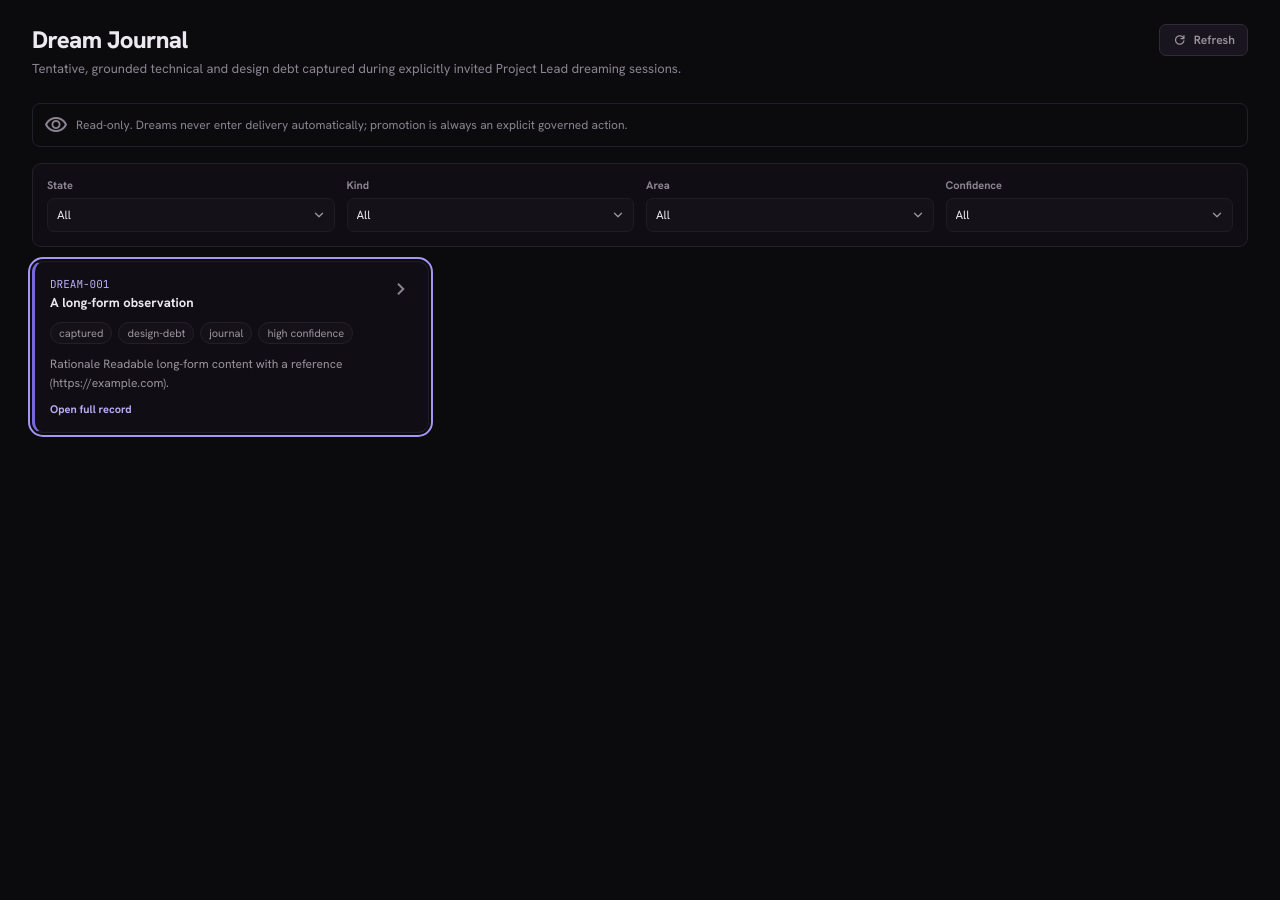
Test: DreamsView › opens full Markdown in an accessible focused dialog
The image size is (1280, 900).
Click the button with aria-label "Open DREAM-001".
click(231, 347)  # box x1=32 y1=260 x2=429 y2=433
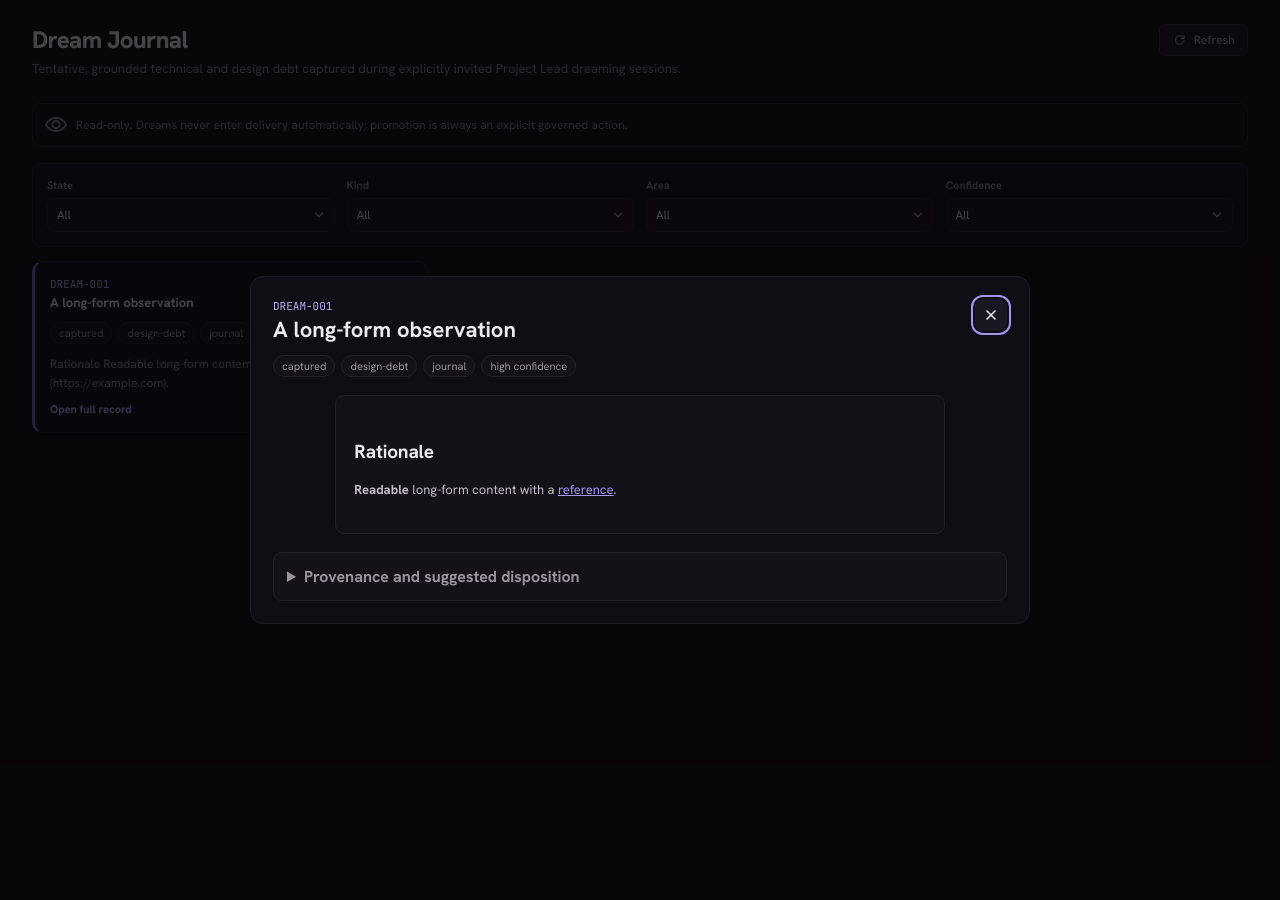
Check: the heading "Rationale" is shown, box x1=354 y1=439 x2=434 y2=464
Check: the link "reference" is shown, box x1=558 y1=481 x2=614 y2=498
Check: the heading "Provenance and suggested disposition" is shown, box x1=304 y1=566 x2=580 y2=587
Press Escape
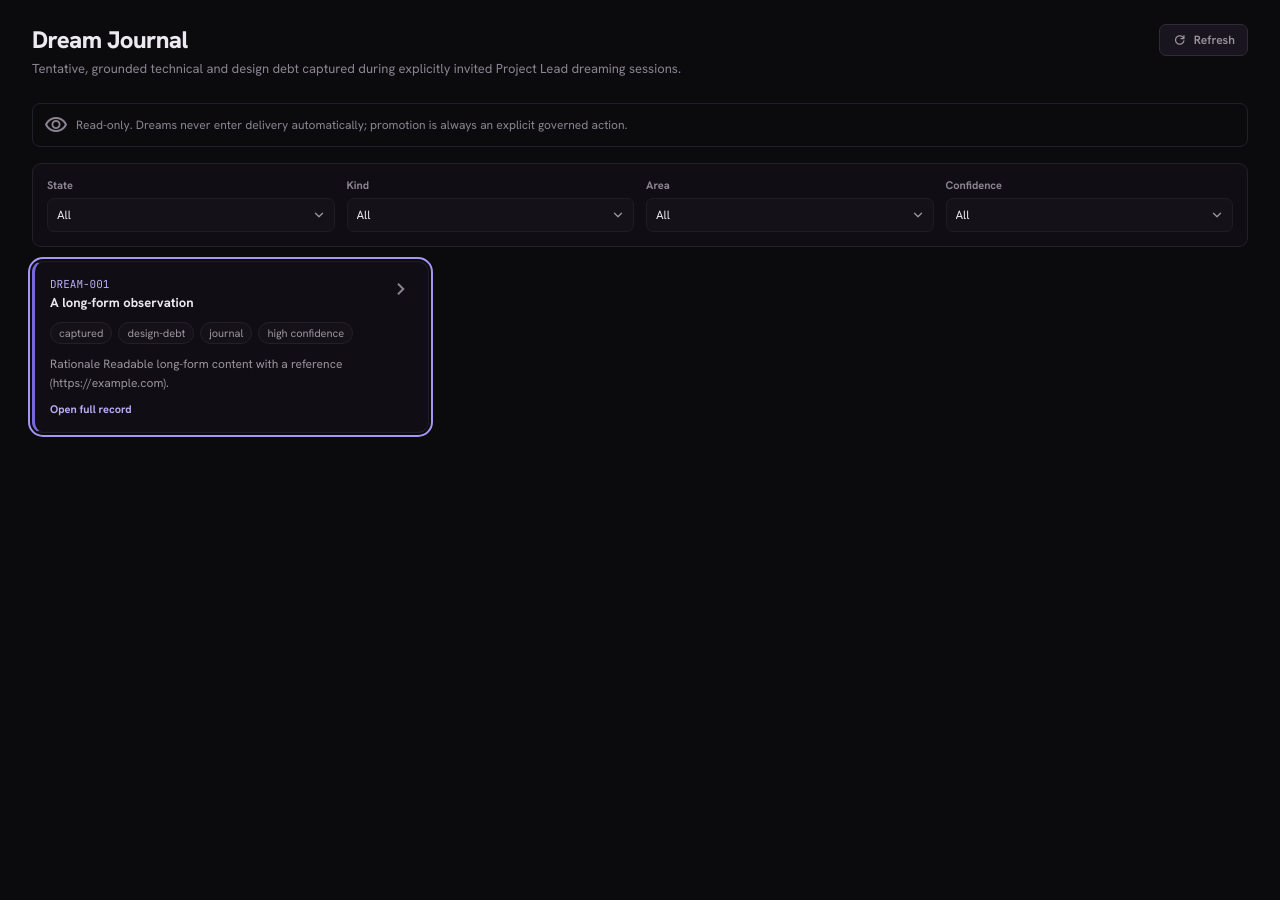
Check: the dialog is gone
